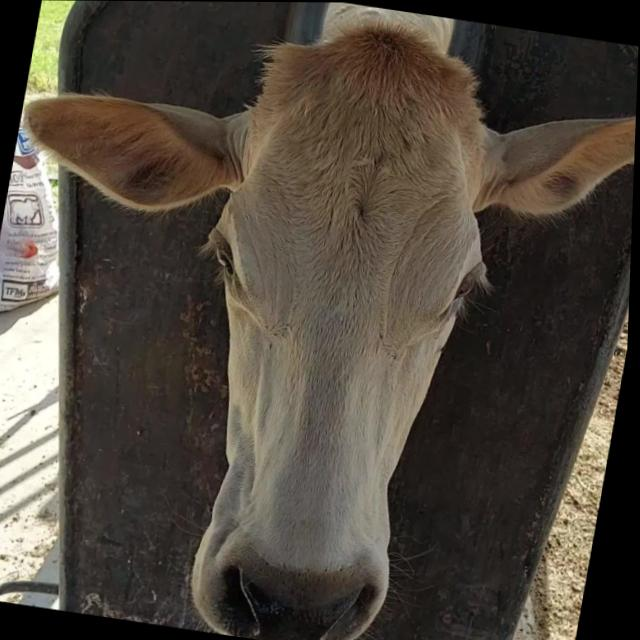cowFace: (147, 5, 531, 640)
